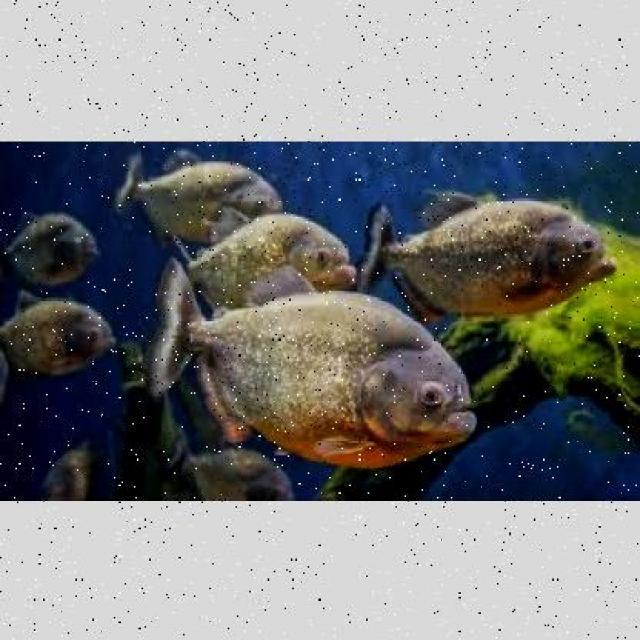ikan-pacu: (160, 294, 480, 466), (370, 200, 612, 308), (179, 215, 356, 296), (120, 157, 274, 237), (0, 294, 114, 378), (0, 210, 105, 282)
